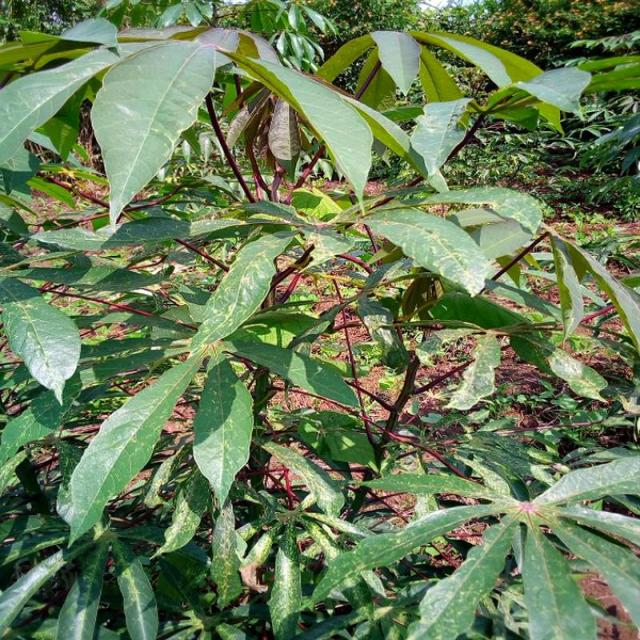cassava leaf: (90, 38, 215, 230), (364, 204, 491, 298), (191, 354, 254, 509)
